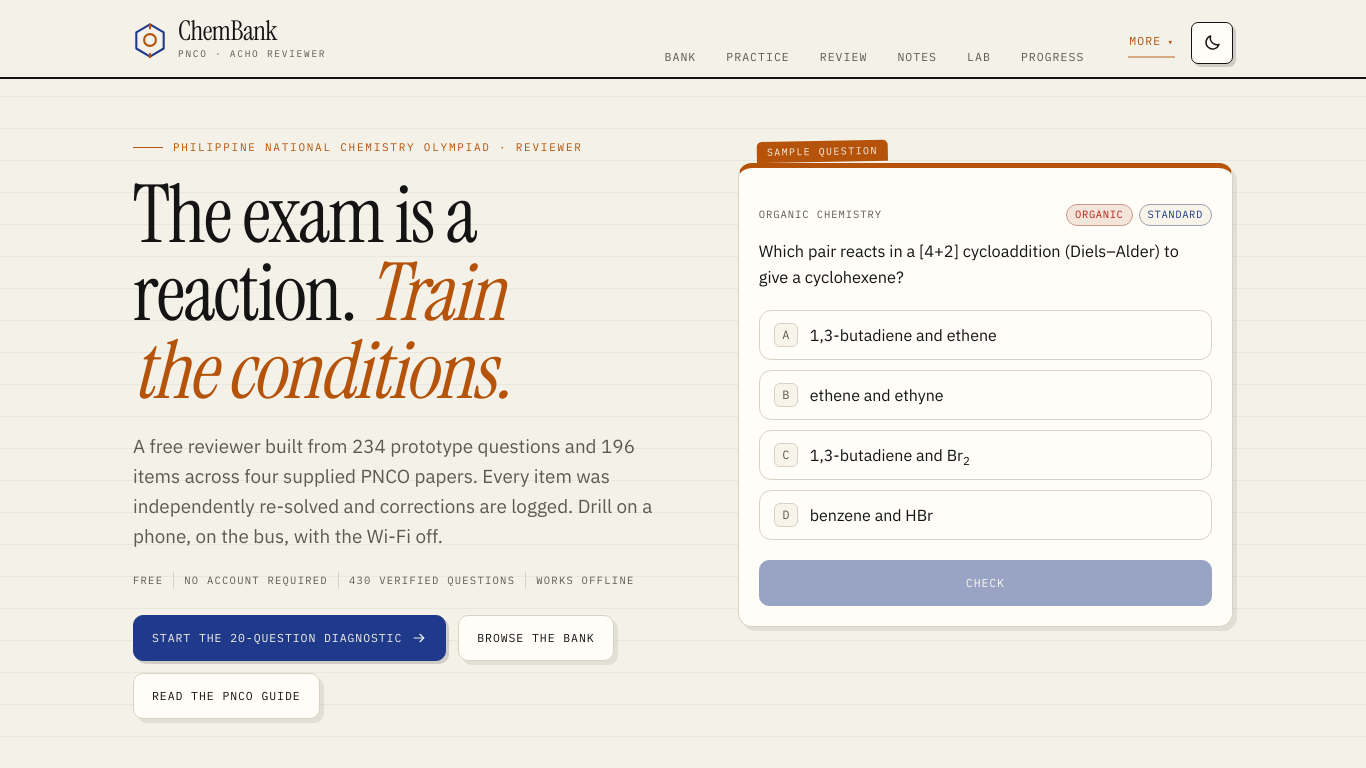
Test: the home sample can be answered and explained
Click the radio button labelled "A 1,3-butadiene and ethene" at (985, 335), box [759, 310, 1212, 360]
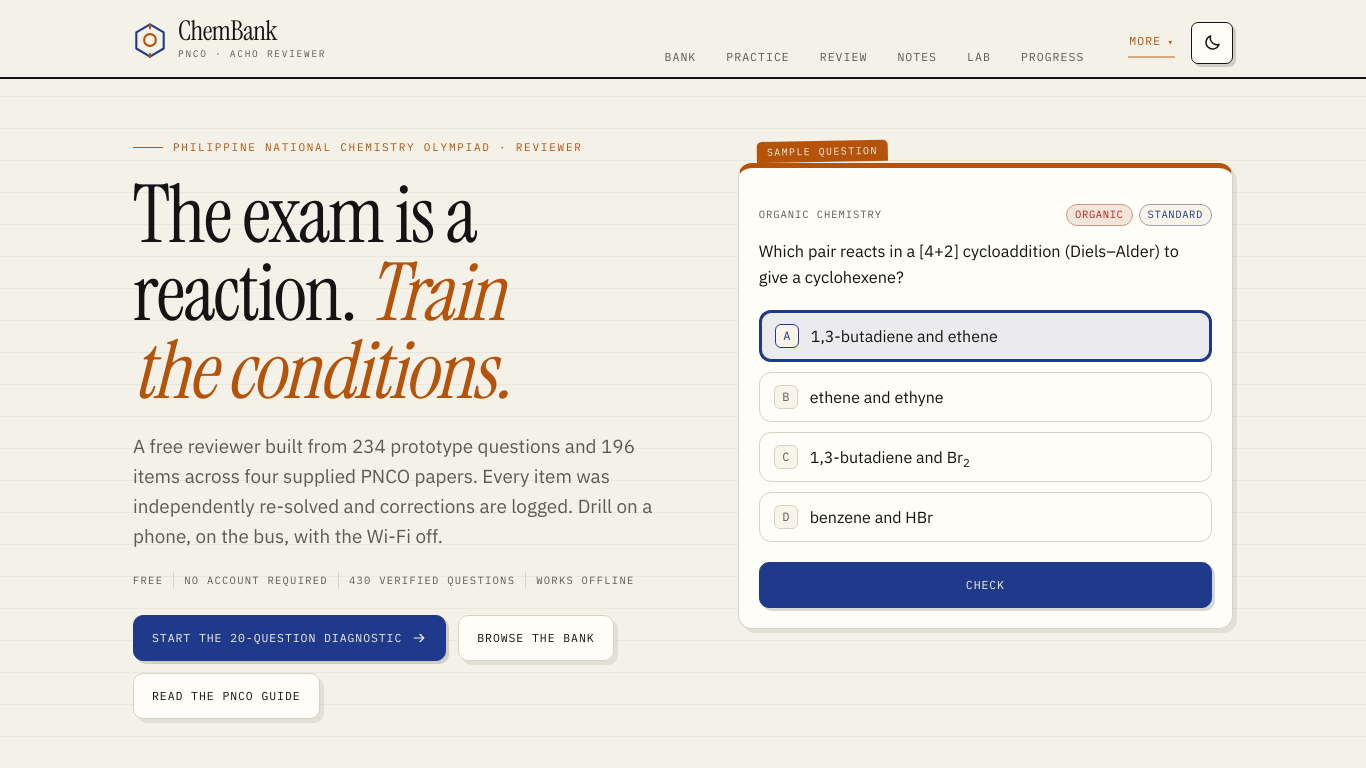
Click the button "Check" at (985, 585), box [759, 562, 1212, 608]
(page scrolled)
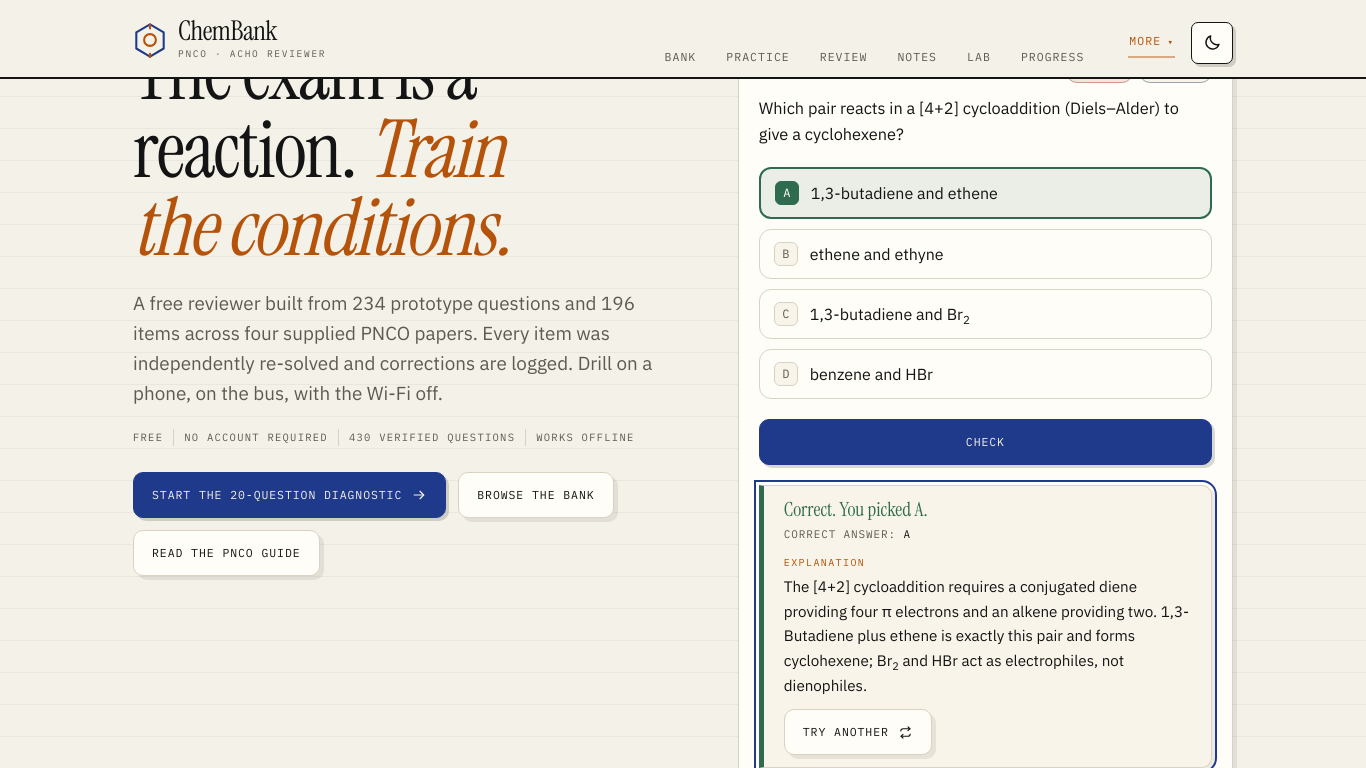
Result: the text "Correct answer: A" is shown at [784, 526, 911, 540]
